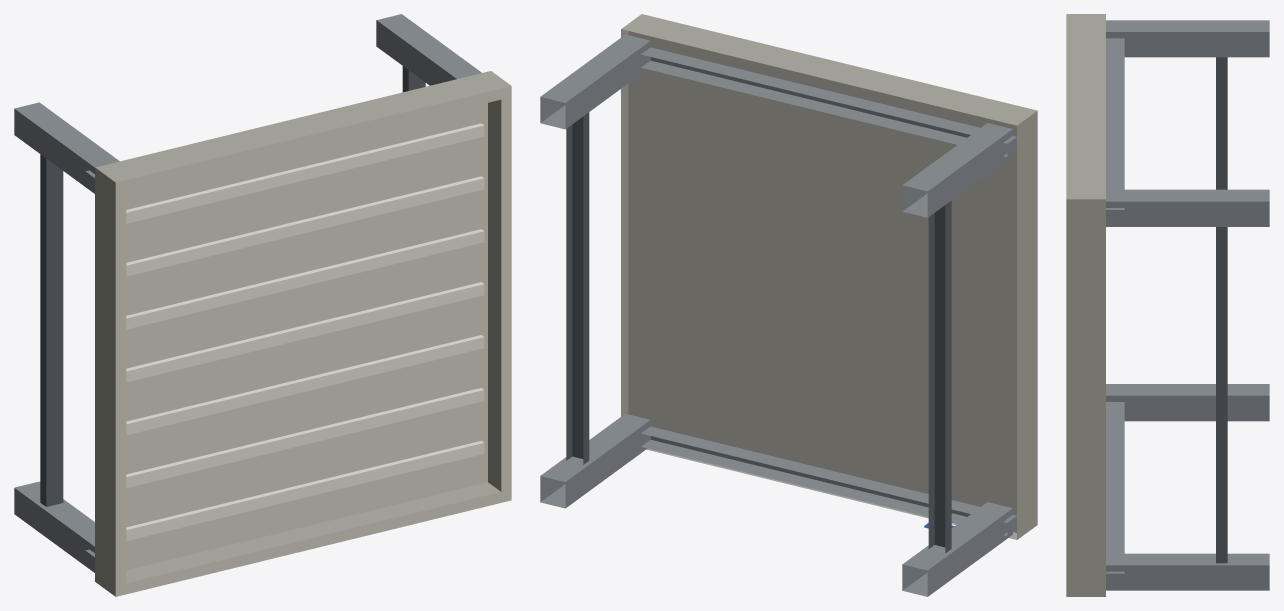
The model's file is b_flood_table_px.obj.
The picture shows the model from 3 angles, left to right: view 1: azimuth 30°, elevation 25°; view 2: azimuth 150°, elevation 25°; view 3: azimuth 270°, elevation 25°; orthographic projection. The views are drawn at different scales.
Bounding box in the file's own units: 0.94 × 0.944 × 0.435.
Materials: 1 (1 with a texture image).
